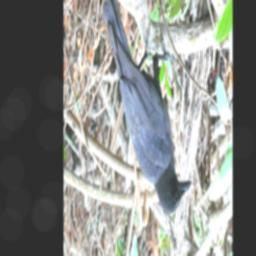Crow: (102, 0, 192, 215)
